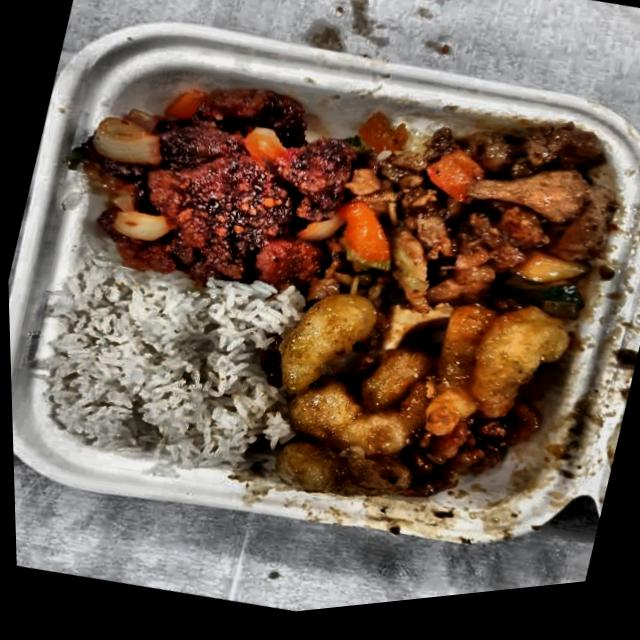Food: (233, 246, 580, 564), (305, 75, 640, 380), (52, 35, 371, 327), (24, 245, 286, 494)
